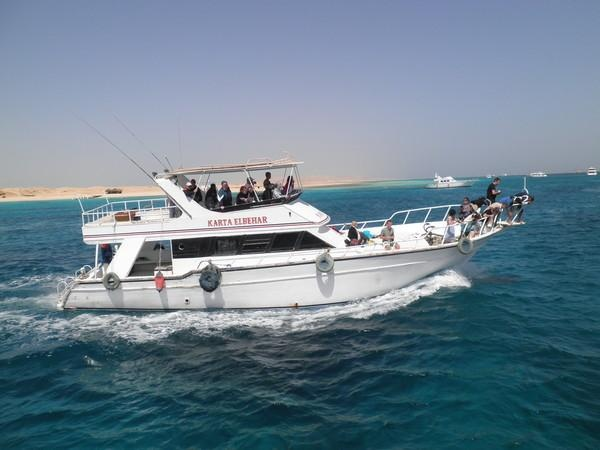yacht: (32, 134, 514, 333)
